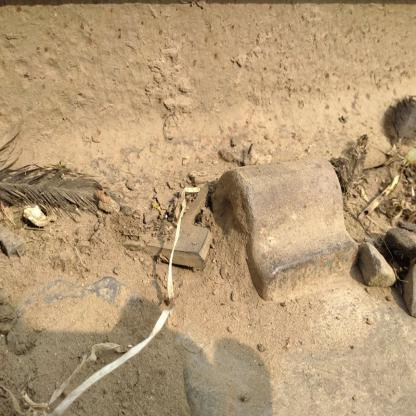Defective 1: (186, 124, 382, 306)
